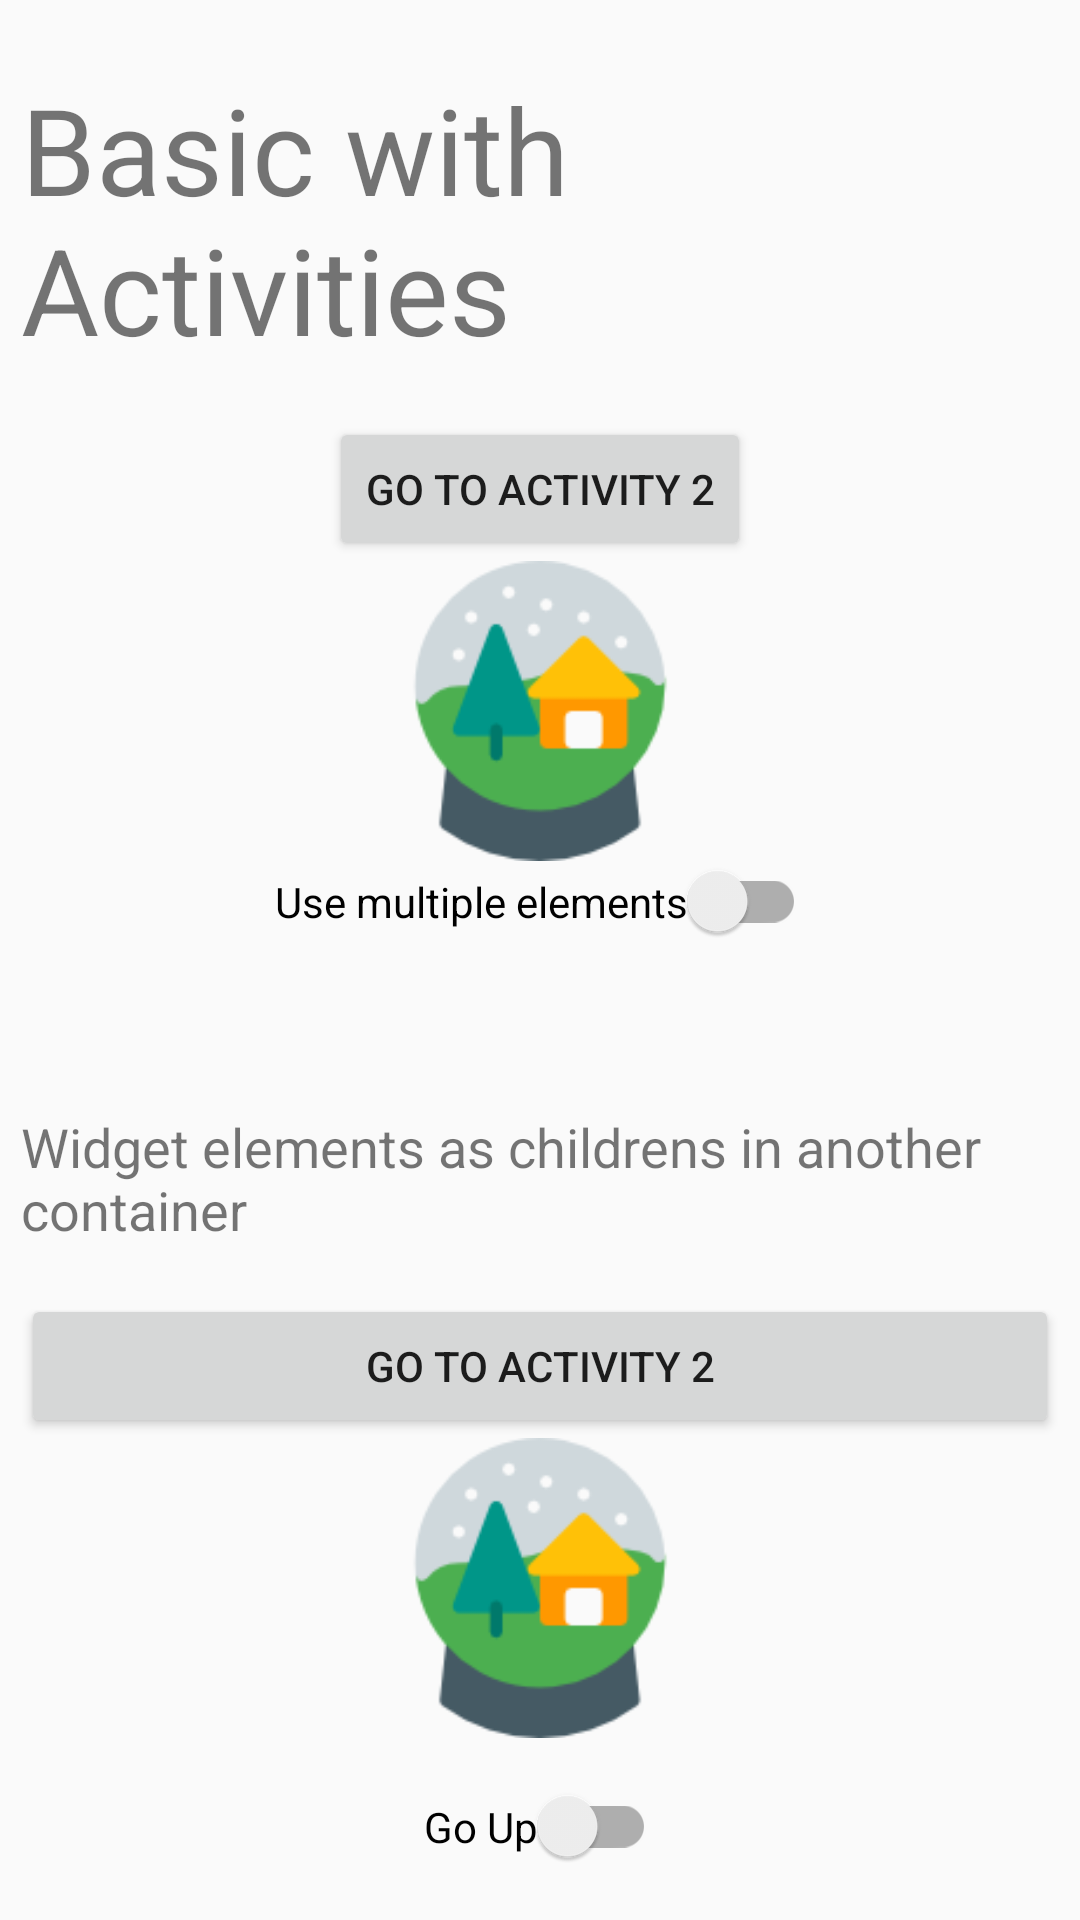

Screen size 1080×1920. Icon name, then its box in pixels as (x1, y1, x2, y2):
snow globe: (415, 561, 667, 861), (415, 1438, 667, 1738)
